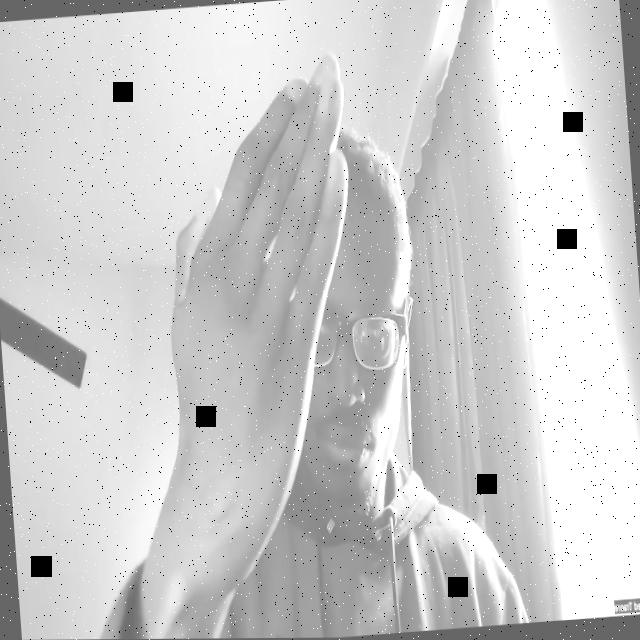Paper: (136, 55, 376, 570)
